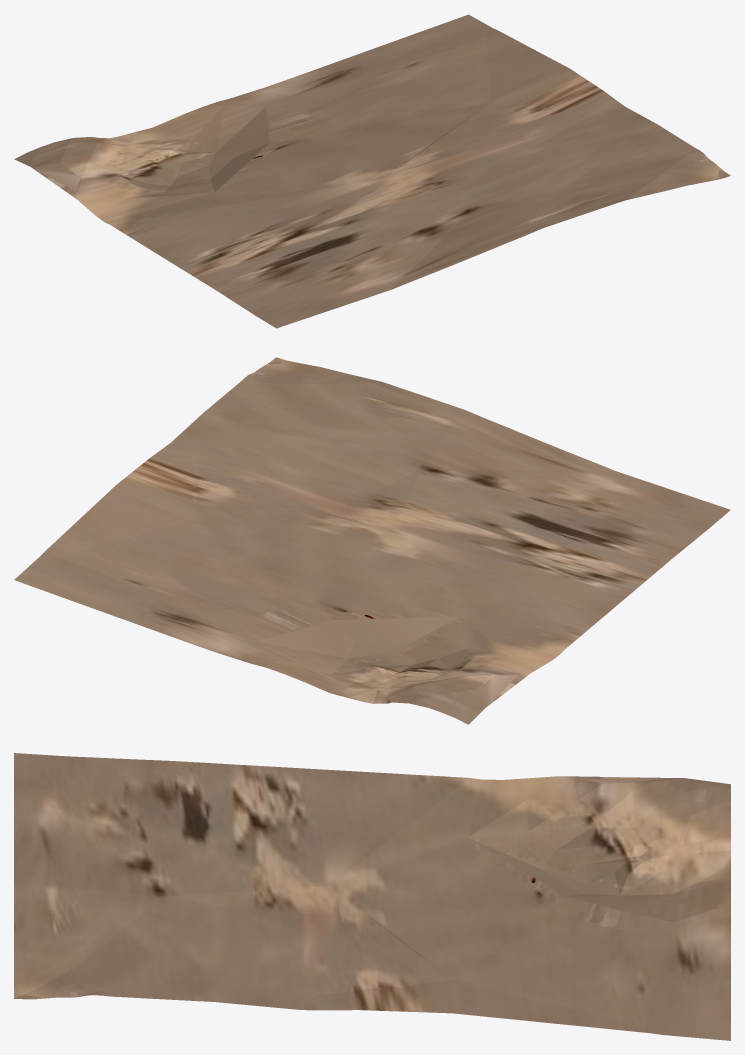
3 views of the same model, one above another, from view 1: azimuth 30°, elevation 25°; view 2: azimuth 150°, elevation 25°; view 3: azimuth 270°, elevation 25° (orthographic). The views are drawn at different scales.
Bounding box in the file's own units: 1.04 × 0.1602 × 1.04.
Materials: 2 (2 with a texture image).
